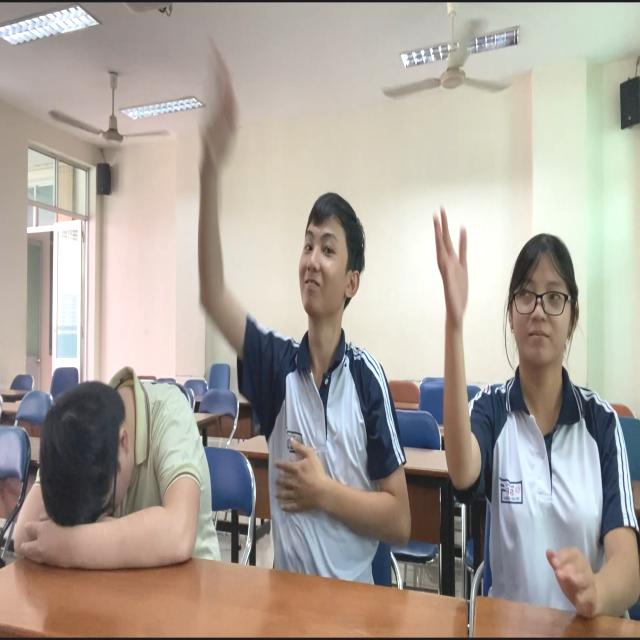raise_hand: (198, 48, 414, 573), (431, 206, 639, 633)
sleep: (10, 365, 211, 582)
